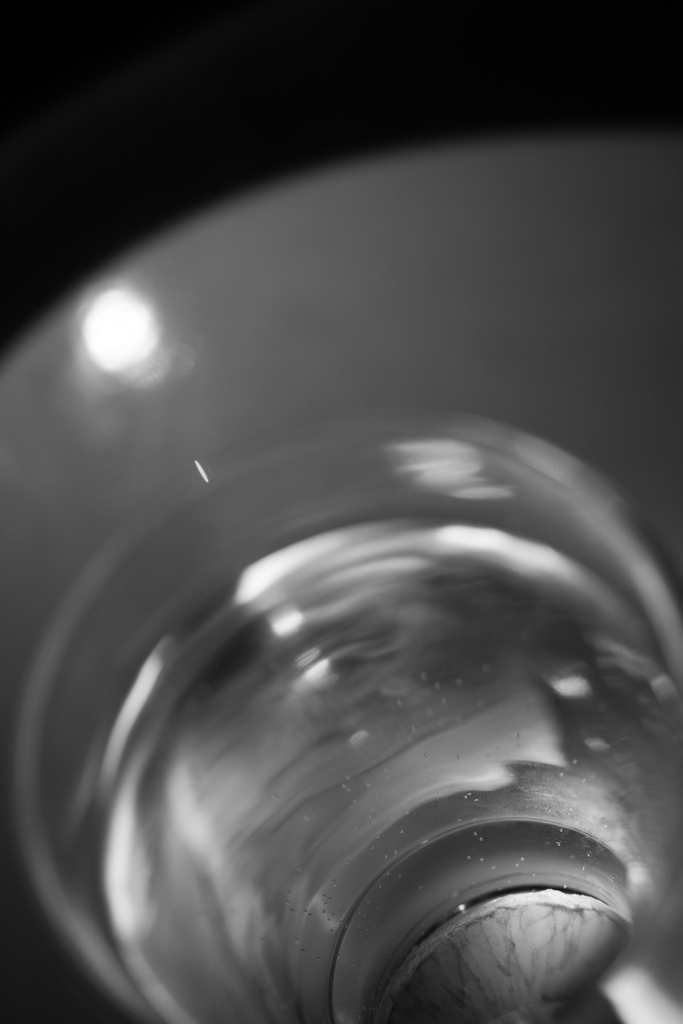glass of water: (53, 156, 671, 1024)
